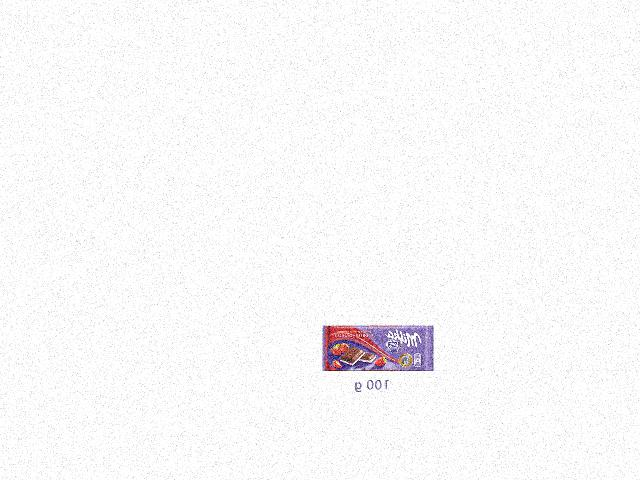chocolate: (321, 325, 433, 376)
